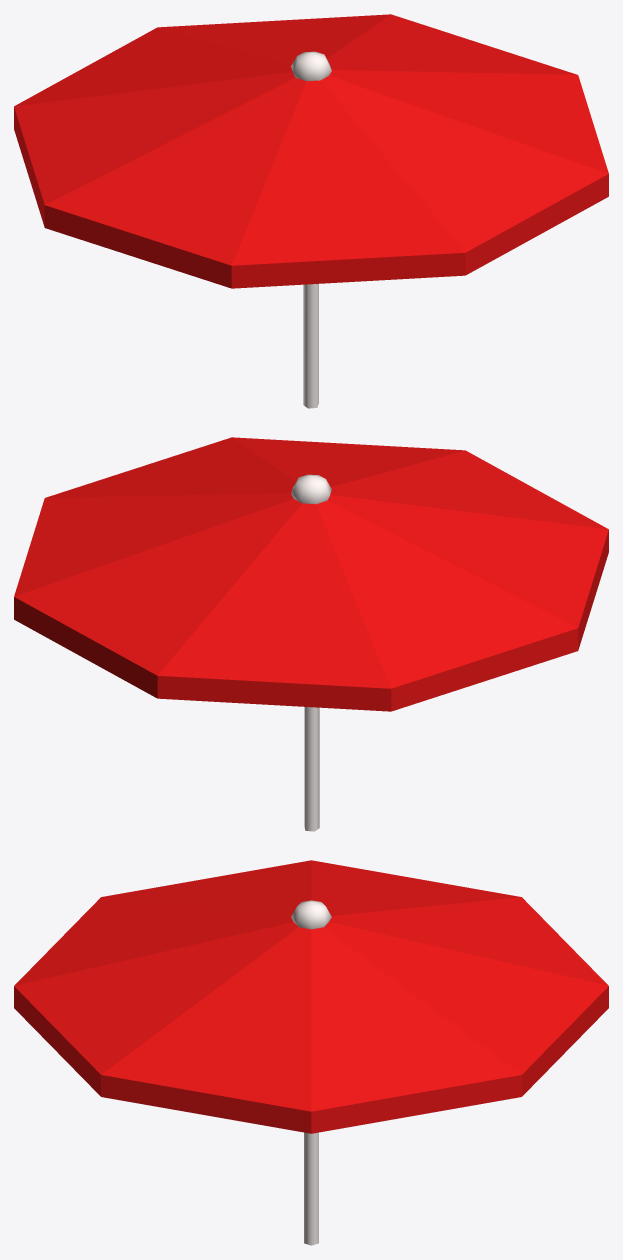
The model's file is umbrella.FBX.
The picture shows the model from 3 angles, top to bottom: view 1: azimuth 30°, elevation 25°; view 2: azimuth 150°, elevation 25°; view 3: azimuth 270°, elevation 25°; orthographic projection. The views are drawn at different scales.
Visible parts, largest first — view 1: Object1384; view 2: Object1384; view 3: Object1384.
Part boxes in pixels (box(x1,y1,x2,y2)): Object1384: box(14, 14, 608, 408); Object1384: box(14, 437, 608, 831); Object1384: box(14, 860, 608, 1245).
Size of the model in its own units: 7.31 by 4.62 by 7.31.
